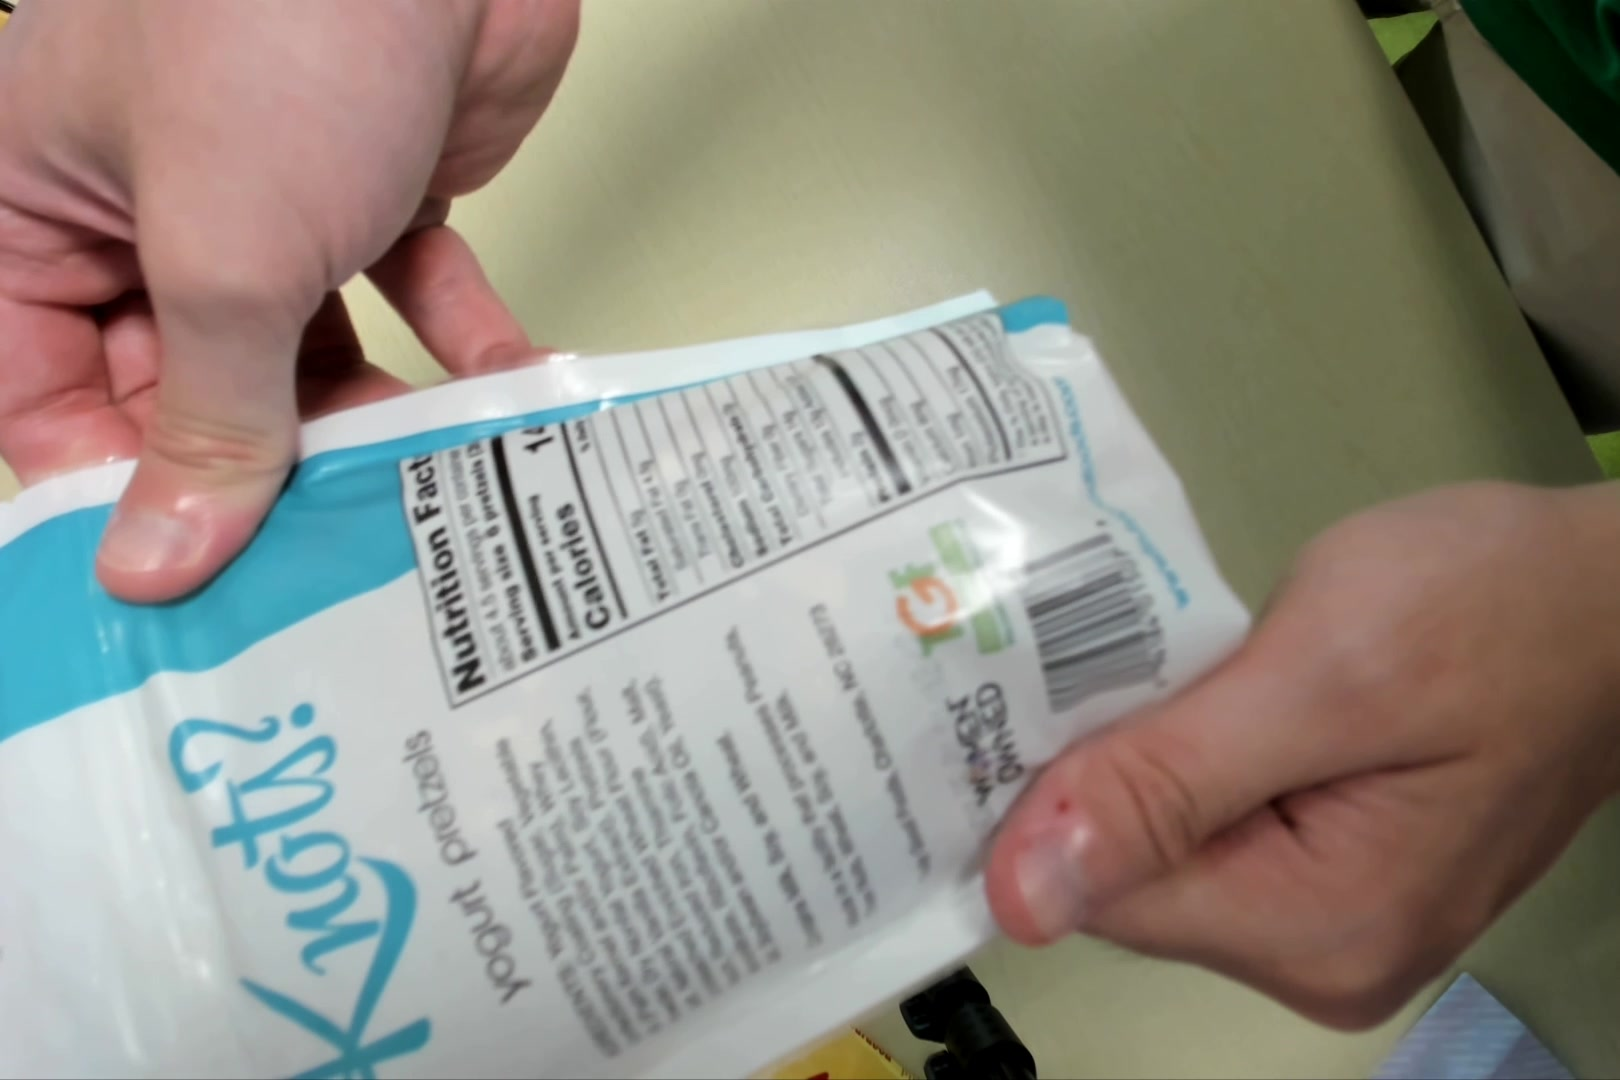SweetsChocolatesOthers_100-199g_NonHalal_NonHealthy: (16, 292, 1256, 1080)
